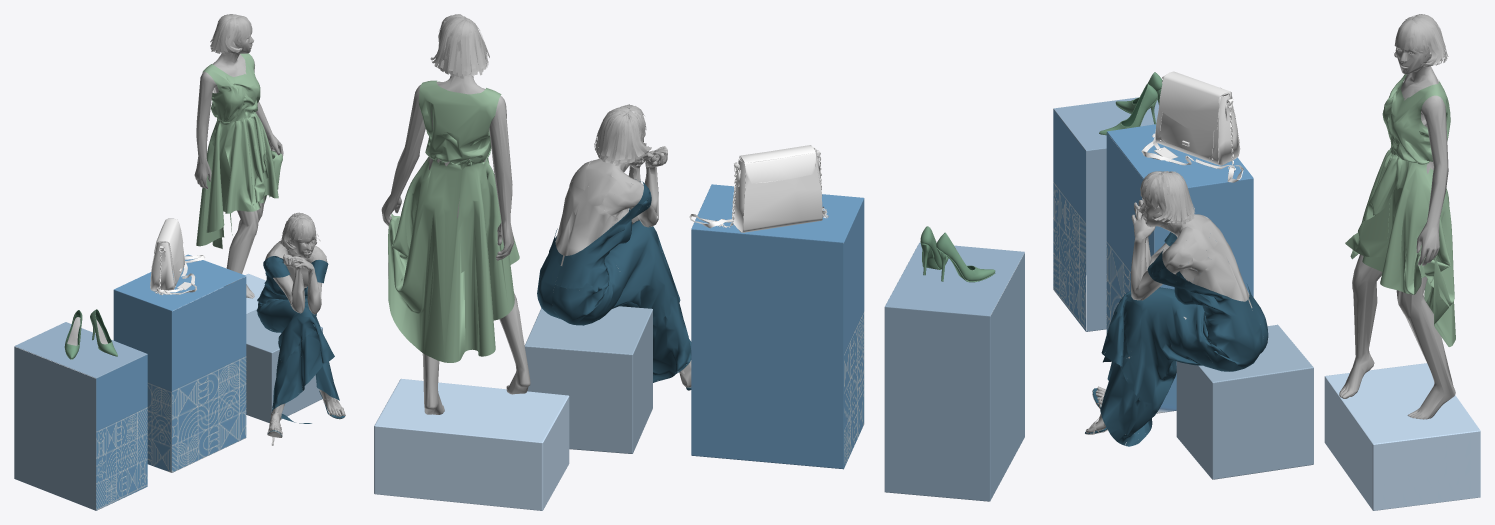
File: detmay_L3.glb
3 renders of one model, left to right at view 1: azimuth 30°, elevation 25°; view 2: azimuth 150°, elevation 25°; view 3: azimuth 270°, elevation 25°, orthographic. The views are drawn at different scales.
Parts seen in each view (by area): view 1: _l3_Shoes box, _l3_Women mannequin box.001, _l3_Women mannequin, _l3_Women mannequin.001, _l3_Women mannequin box.002, _l3_bagest, _l3_Shose, _l3_Women mannequin box; view 2: _l3_Women mannequin box.001, _l3_Women mannequin, _l3_Shoes box, _l3_Women mannequin.001, _l3_Women mannequin box, _l3_Women mannequin box.002, _l3_bagest, _l3_Shose; view 3: _l3_Women mannequin.001, _l3_Women mannequin, _l3_Women mannequin box, _l3_Women mannequin box.002, _l3_Women mannequin box.001, _l3_Shoes box, _l3_bagest, _l3_Shose.
Boxes of the visible parts, left/top/right/bottom form: _l3_Shoes box: left=14, top=322, right=147, bottom=510; _l3_Women mannequin box.001: left=113, top=254, right=246, bottom=472; _l3_Women mannequin: left=194, top=14, right=283, bottom=298; _l3_Women mannequin.001: left=256, top=212, right=345, bottom=445; _l3_Women mannequin box.002: left=246, top=309, right=322, bottom=422; _l3_bagest: left=150, top=218, right=204, bottom=295; _l3_Shose: left=64, top=309, right=117, bottom=359; _l3_Women mannequin box: left=172, top=273, right=265, bottom=313; _l3_Women mannequin box.001: left=691, top=184, right=864, bottom=469; _l3_Women mannequin: left=381, top=14, right=530, bottom=414; _l3_Shoes box: left=884, top=242, right=1024, bottom=501; _l3_Women mannequin.001: left=537, top=104, right=691, bottom=390; _l3_Women mannequin box: left=374, top=378, right=569, bottom=510; _l3_Women mannequin box.002: left=524, top=306, right=652, bottom=453; _l3_bagest: left=689, top=145, right=828, bottom=232; _l3_Shose: left=920, top=226, right=995, bottom=282; _l3_Women mannequin.001: left=1085, top=171, right=1268, bottom=446; _l3_Women mannequin: left=1339, top=14, right=1455, bottom=419; _l3_Women mannequin box: left=1324, top=363, right=1480, bottom=510; _l3_Women mannequin box.002: left=1176, top=324, right=1313, bottom=479; _l3_Women mannequin box.001: left=1106, top=124, right=1253, bottom=413; _l3_Shoes box: left=1053, top=97, right=1158, bottom=331; _l3_bagest: left=1141, top=71, right=1243, bottom=182; _l3_Shose: left=1099, top=72, right=1162, bottom=135.
Bounding box in the file's own units: 3.32 × 2.96 × 2.52.
12 materials, 1 textured.
